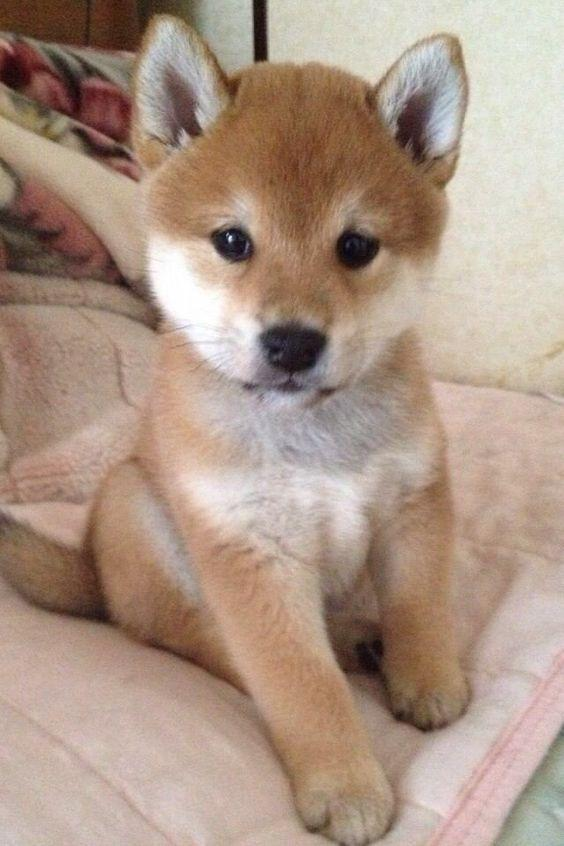puppy-dog: (1, 10, 474, 846)
